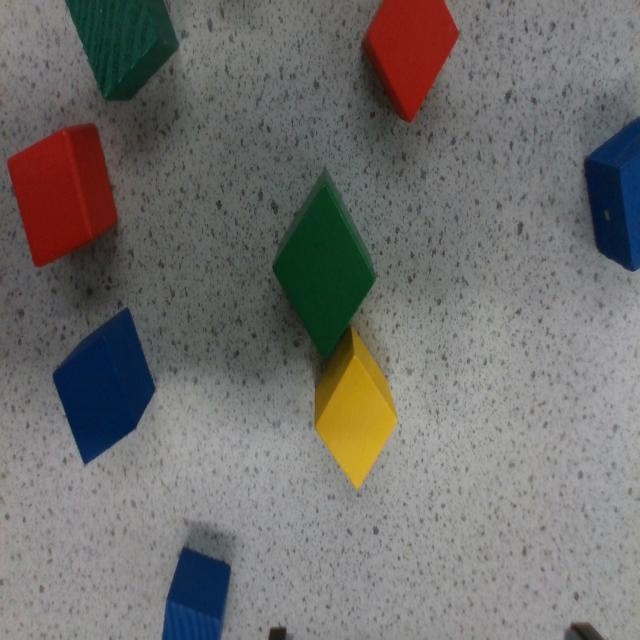blue_cube: (37, 308, 174, 466), (586, 116, 640, 273), (160, 548, 233, 640)
green_cube: (241, 168, 406, 370), (73, 0, 179, 102)
red_cube: (0, 118, 134, 272)
yellow_cube: (279, 325, 428, 494)
